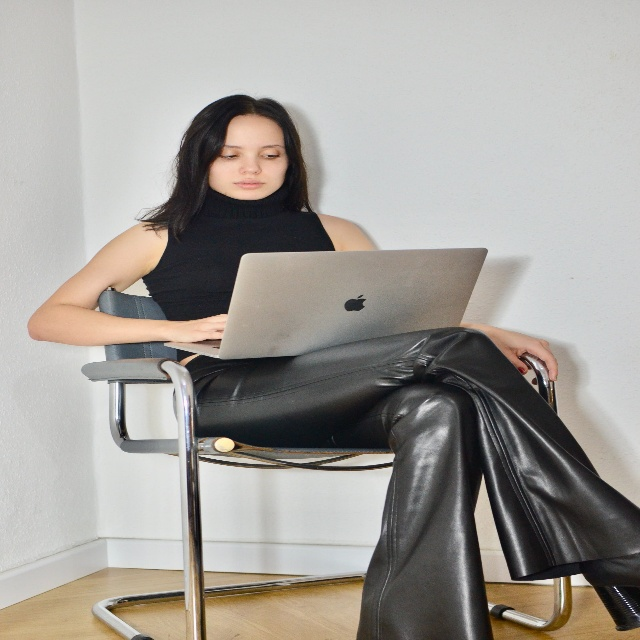Sin_guantes: (481, 323, 559, 385), (172, 312, 227, 343)
